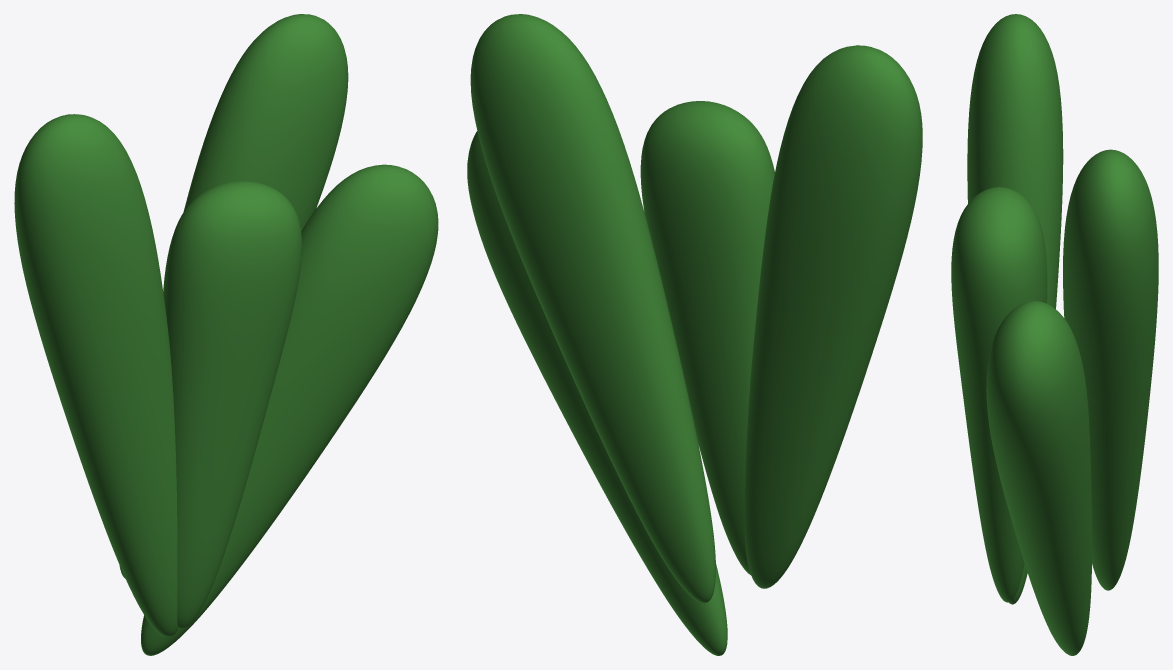
File: thicket.dae
The picture shows the model from 3 angles, left to right: view 1: azimuth 30°, elevation 25°; view 2: azimuth 150°, elevation 25°; view 3: azimuth 270°, elevation 25°; orthographic projection. The views are drawn at different scales.
Parts seen in each view (by area): view 1: Cube.011; view 2: Cube.011; view 3: Cube.011.
Boxes of the visible parts, left/top/right/bottom form: Cube.011: left=14, top=14, right=438, bottom=655; Cube.011: left=467, top=14, right=922, bottom=655; Cube.011: left=951, top=14, right=1158, bottom=655.
Bounding box in the file's own units: 0.6432 × 0.2767 × 0.8562.
